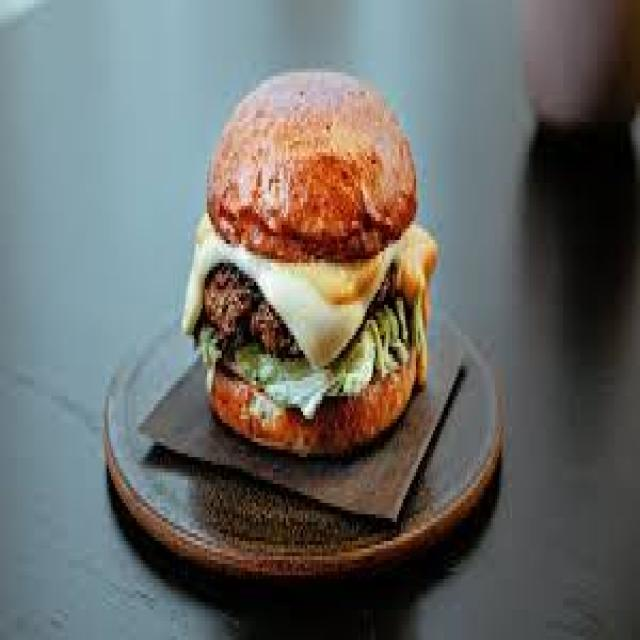Burger: (224, 96, 427, 443)
